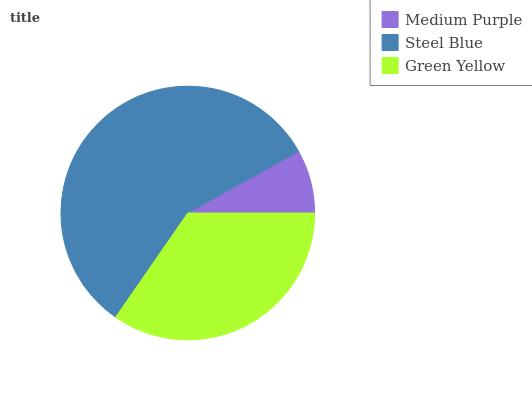legend: (372, 0, 532, 86)
sector: (59, 84, 298, 318), (116, 212, 317, 343), (189, 152, 317, 213)
